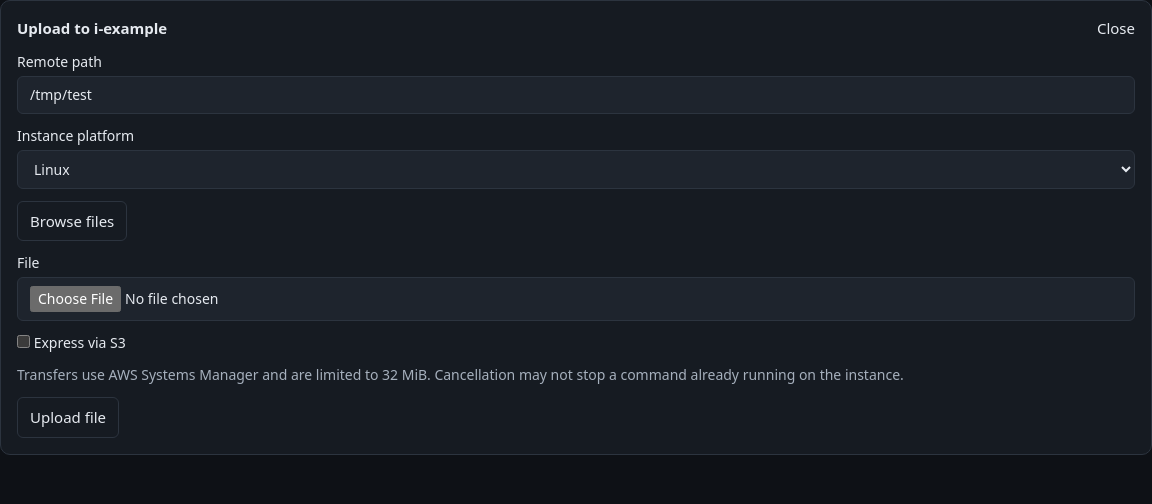
Scenario: rejects an oversized file before sending it
This screenshot has width=1152, height=504.
Earlier steps of the test are not shown.
Click the button "Upload file" at (68, 417), box [17,397,119,438]
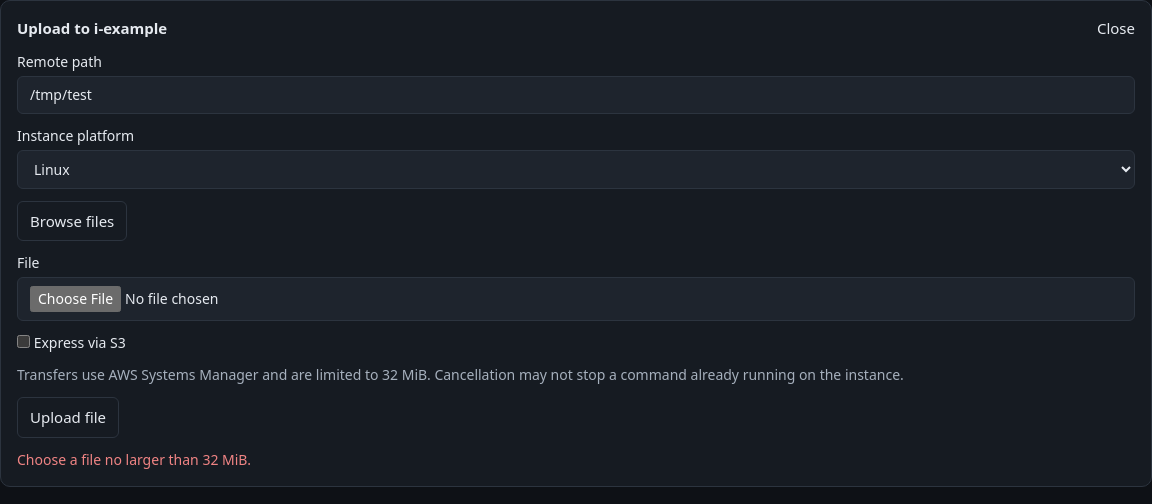
Now the message shows "32 MiB", box [17,450,251,468]
